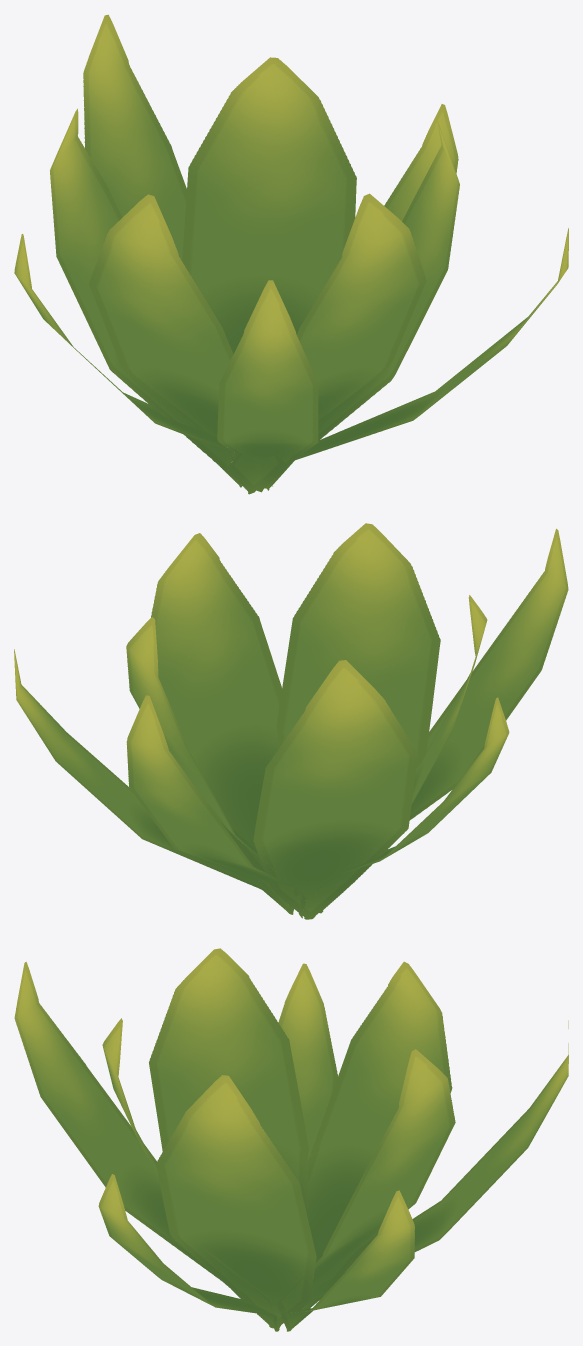
Rendered from SimpleFoliage_V1_0.fbx.
3 renders of one model, top to bottom at view 1: azimuth 30°, elevation 25°; view 2: azimuth 150°, elevation 25°; view 3: azimuth 270°, elevation 25°, orthographic. The views are drawn at different scales.
Parts seen in each view (by area): view 1: polySurface17; view 2: polySurface17; view 3: polySurface17.
Boxes of the visible parts, x1,y1,x2,y2 form: polySurface17: (14, 14, 568, 494); polySurface17: (14, 523, 568, 919); polySurface17: (14, 948, 568, 1331).
Size of the model in its own units: 5.18 by 3.66 by 5.83.
